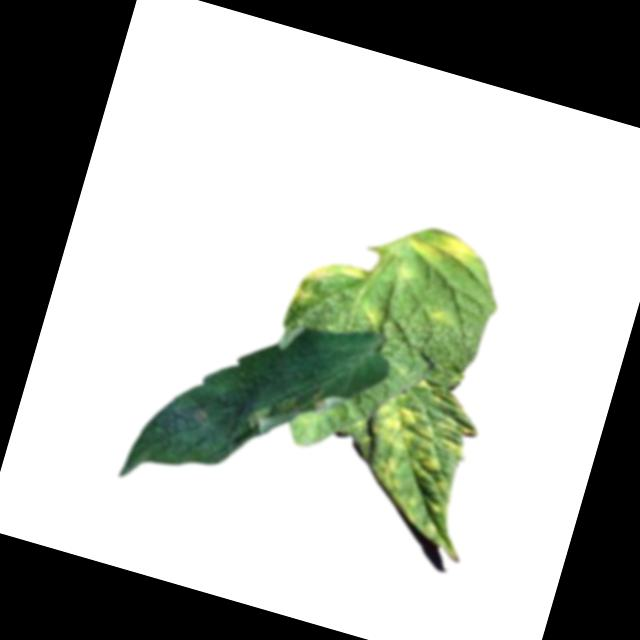Leaf_Mold: (344, 384, 483, 546), (243, 364, 346, 453), (291, 252, 369, 321), (407, 223, 482, 277), (423, 301, 453, 329), (363, 304, 387, 330)
